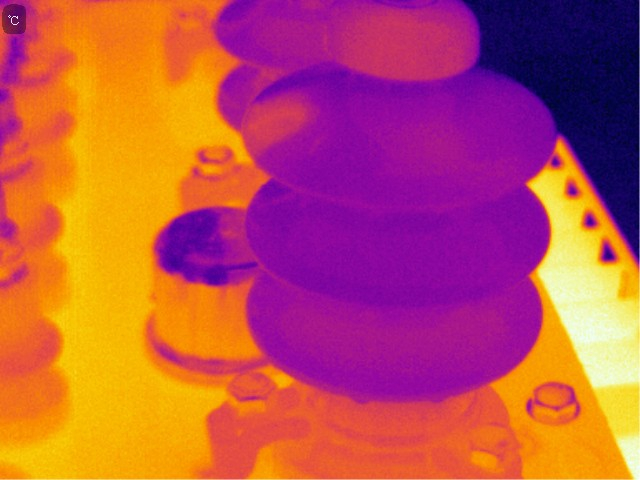Oil: (325, 1, 479, 81), (343, 93, 476, 181), (246, 92, 319, 157), (477, 156, 522, 193), (350, 387, 372, 407)
